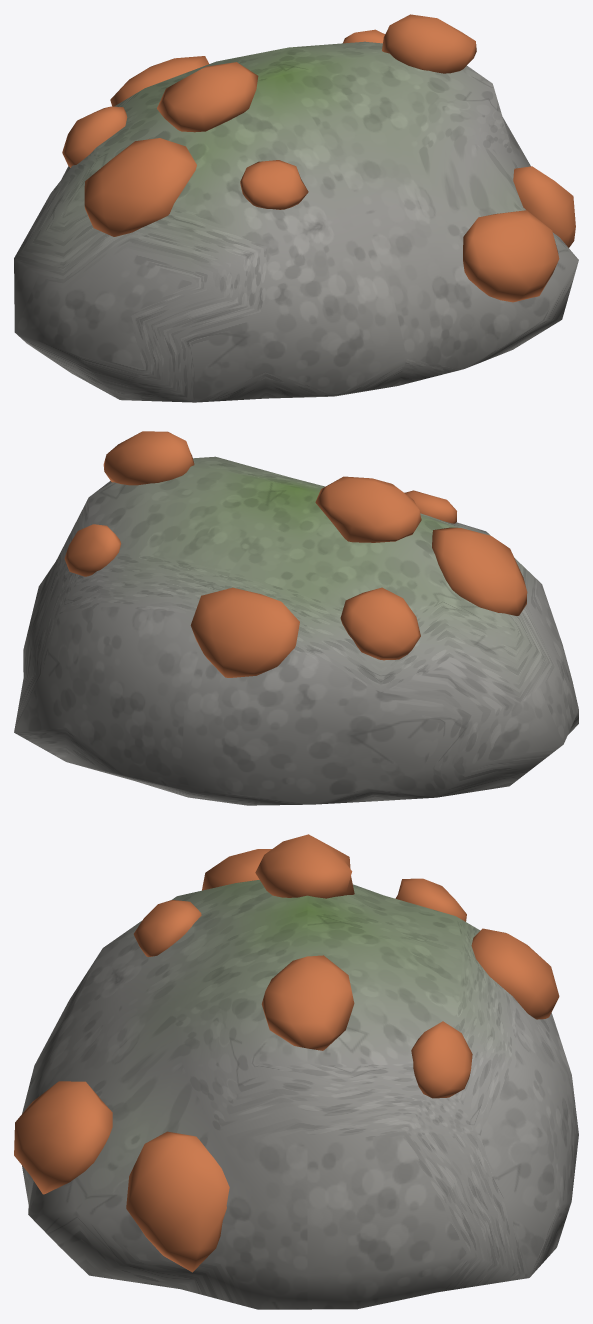
The model's file is ore_copper_boulder.glb.
The picture shows the model from 3 angles, top to bottom: view 1: azimuth 30°, elevation 25°; view 2: azimuth 150°, elevation 25°; view 3: azimuth 270°, elevation 25°; orthographic projection. The views are drawn at different scales.
Visible parts, largest first — view 1: ore_copper_stone, ore_copper; view 2: ore_copper_stone, ore_copper; view 3: ore_copper_stone, ore_copper.
Boxes of the visible parts, bbox=[...] form: ore_copper_stone: bbox=[14, 41, 578, 402]; ore_copper: bbox=[62, 14, 575, 302]; ore_copper_stone: bbox=[14, 456, 578, 805]; ore_copper: bbox=[64, 431, 527, 677]; ore_copper_stone: bbox=[22, 880, 578, 1309]; ore_copper: bbox=[14, 834, 559, 1272].
Bounding box in the file's own units: 2.3 × 1.12 × 1.87.
2 materials, 1 textured.
